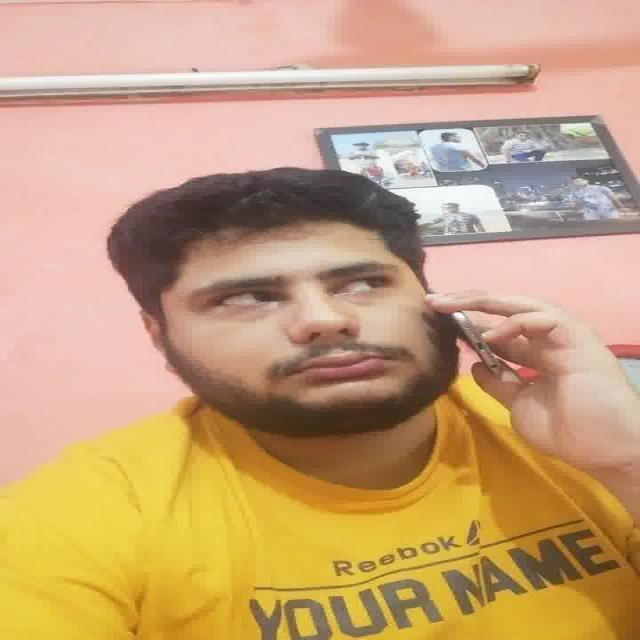Phone: (444, 307, 506, 382)
